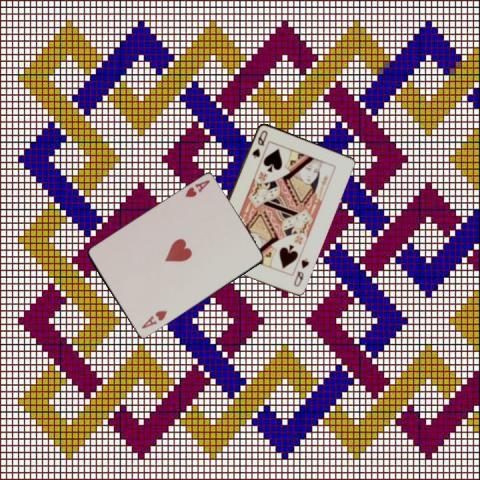Ah: (138, 307, 168, 331), (182, 177, 211, 199)
Qs: (248, 127, 269, 159), (291, 256, 310, 288)
